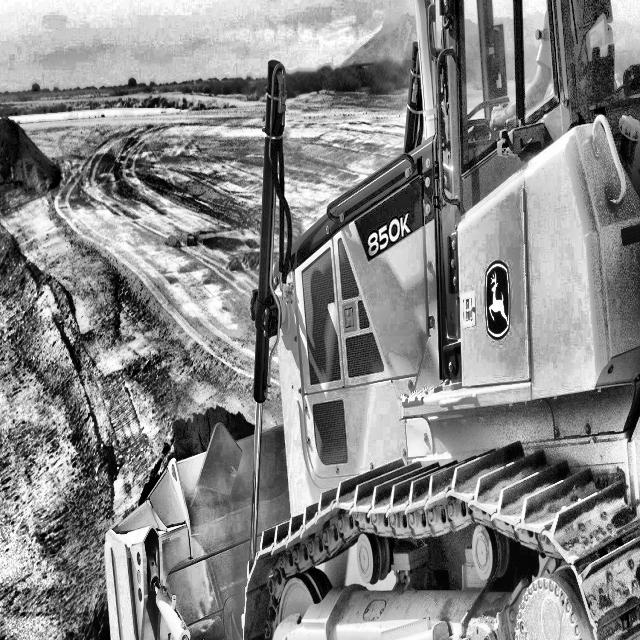buldozerpayloadergrader: (85, 0, 640, 640)
